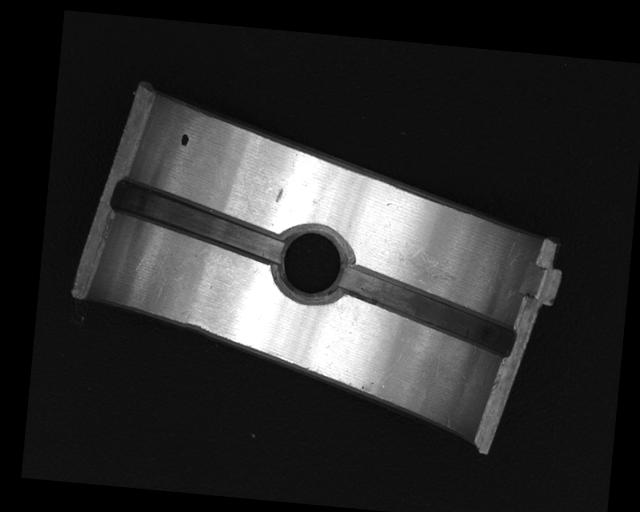blot: (178, 132, 190, 148)
bruise: (274, 186, 282, 203)
gap: (335, 263, 521, 354), (107, 177, 286, 264)
hole: (269, 219, 356, 304)
scratch: (386, 242, 473, 288)
